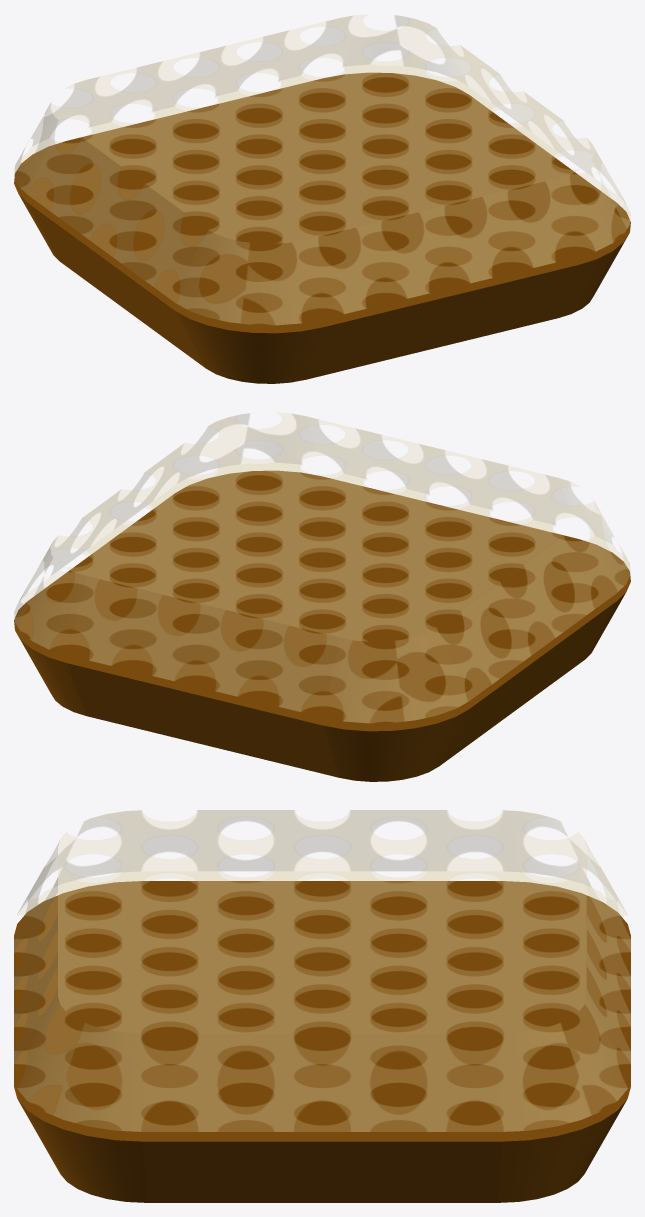
File: lesson 10 ANIMATION.glb
3 renders of one model, top to bottom at view 1: azimuth 30°, elevation 25°; view 2: azimuth 150°, elevation 25°; view 3: azimuth 270°, elevation 25°, orthographic. The views are drawn at different scales.
Visible parts, largest first — view 1: Rectangle0003, Rectangle1003; view 2: Rectangle0003, Rectangle1003; view 3: Rectangle0003, Rectangle1003.
Part boxes in pixels (x1,y1,x2,y2): Rectangle0003: (14, 72, 630, 383); Rectangle1003: (14, 14, 630, 324); Rectangle0003: (14, 470, 630, 781); Rectangle1003: (14, 412, 630, 722); Rectangle0003: (14, 881, 630, 1202); Rectangle1003: (14, 810, 630, 1131).
Bounding box in the file's own units: 0.07 × 0.0212 × 0.07.
2 materials, 1 textured.
